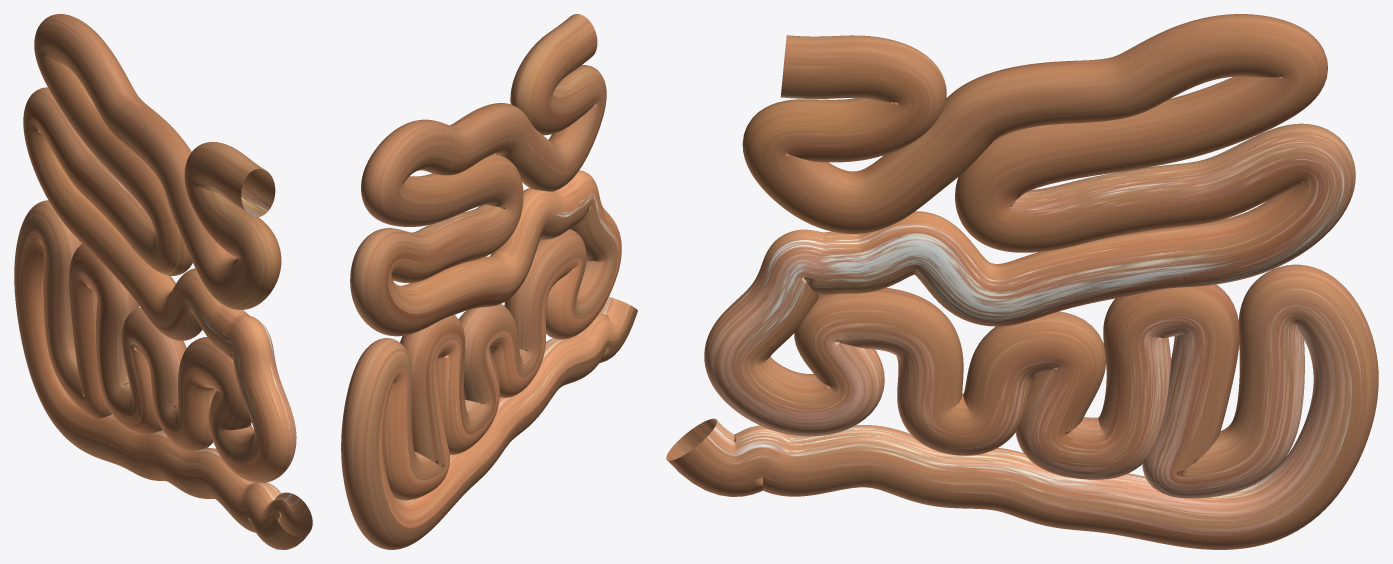
File: SmallIntestine.fbx
3 views of the same model, side by side, from view 1: azimuth 30°, elevation 25°; view 2: azimuth 150°, elevation 25°; view 3: azimuth 270°, elevation 25° (orthographic). The views are drawn at different scales.
Visible parts, largest first — view 1: SmallIntestine; view 2: SmallIntestine; view 3: SmallIntestine.
Boxes of the visible parts, x1,y1,x2,y2 form: SmallIntestine: (14,14,312,549); SmallIntestine: (341,14,637,549); SmallIntestine: (666,14,1378,549).
Bounding box in the file's own units: 73.4 × 846 × 1026.
1 material, 1 textured.
